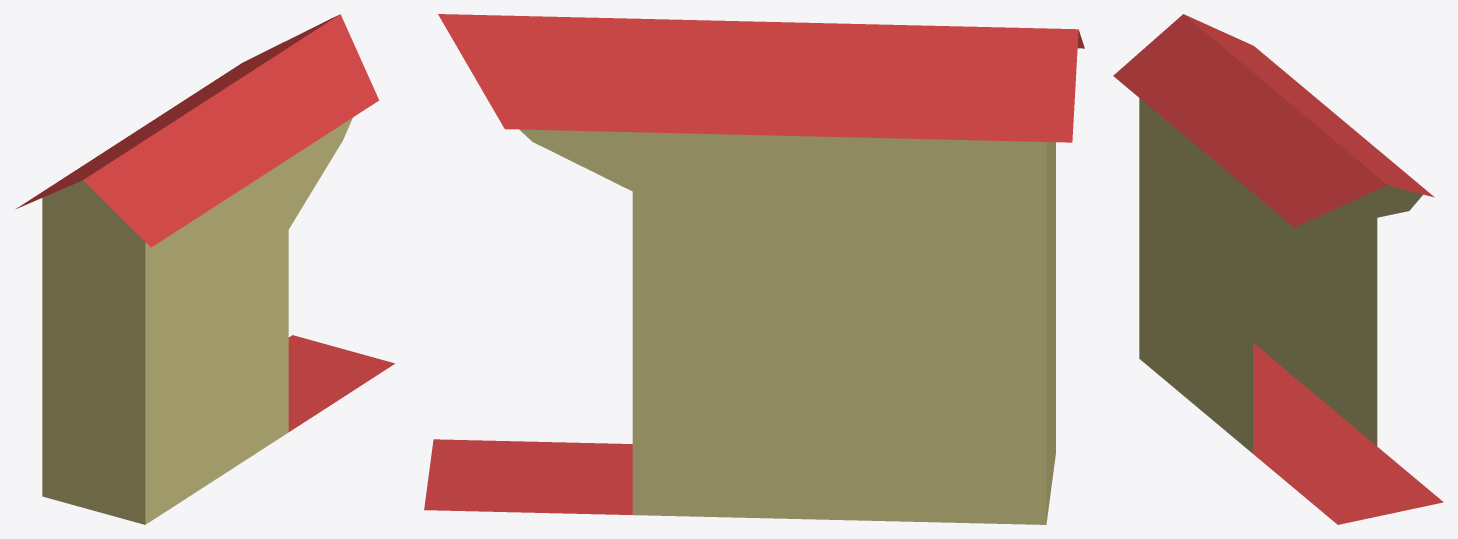
3 renders of one model, left to right at view 1: azimuth 30°, elevation 25°; view 2: azimuth 150°, elevation 25°; view 3: azimuth 270°, elevation 25°, orthographic. The views are drawn at different scales.
Bounding box in the file's own units: 18.22 × 12.74 × 13.85.
